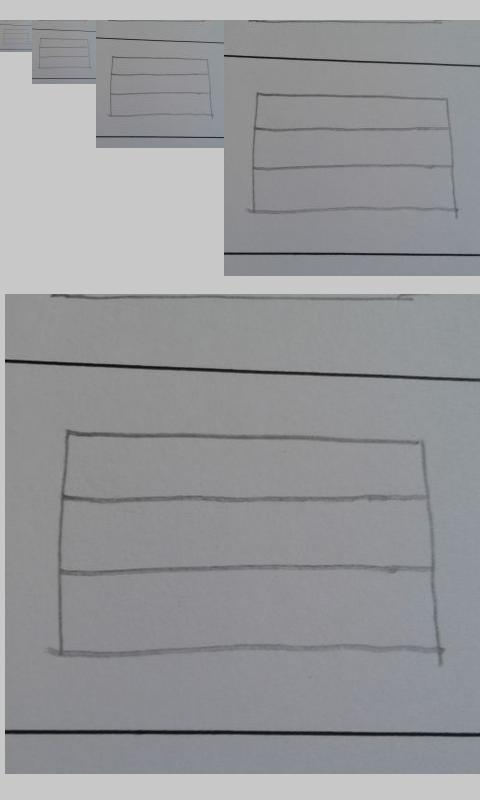list_view: (56, 426, 441, 659), (247, 89, 459, 218), (109, 55, 215, 118), (38, 36, 93, 71), (2, 28, 31, 45)
